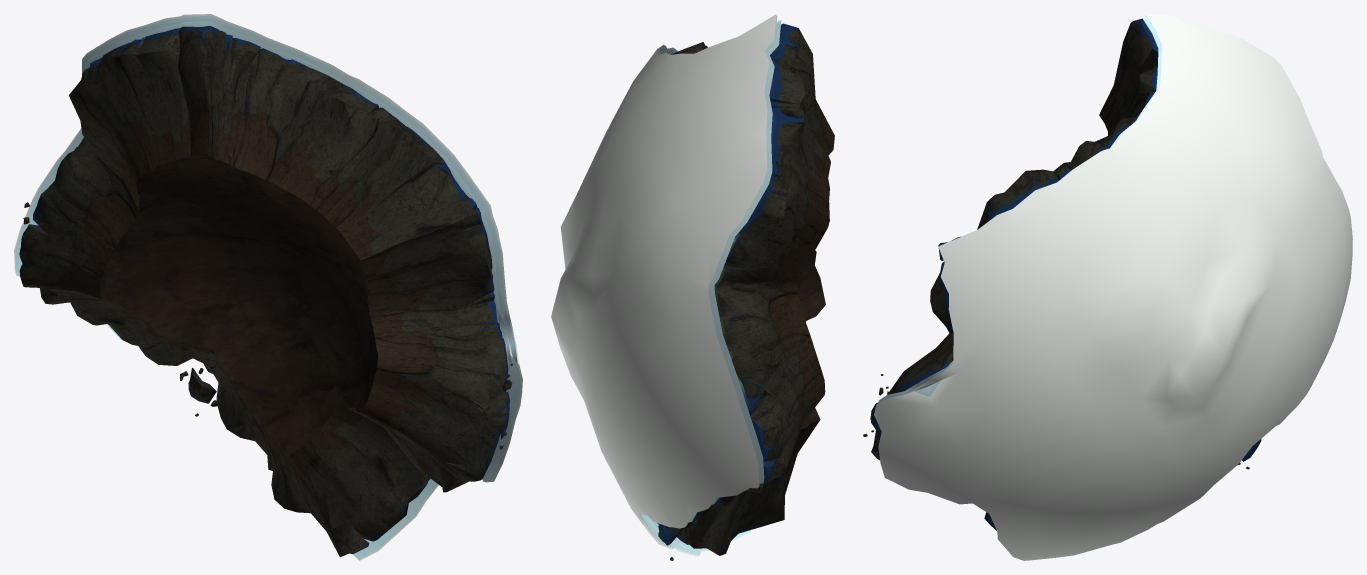
Rendered from Piece 2.fbx.
The picture shows the model from 3 angles, left to right: view 1: azimuth 30°, elevation 25°; view 2: azimuth 150°, elevation 25°; view 3: azimuth 270°, elevation 25°; orthographic projection. The views are drawn at different scales.
Visible parts, largest first — view 1: Piece_2; view 2: Piece_2; view 3: Piece_2.
Boxes of the visible parts, <box> form: Piece_2: <box>14,14,522,560</box>; Piece_2: <box>551,14,834,560</box>; Piece_2: <box>863,14,1352,560</box>.
Size of the model in its own units: 5125 by 8471 by 7423.
